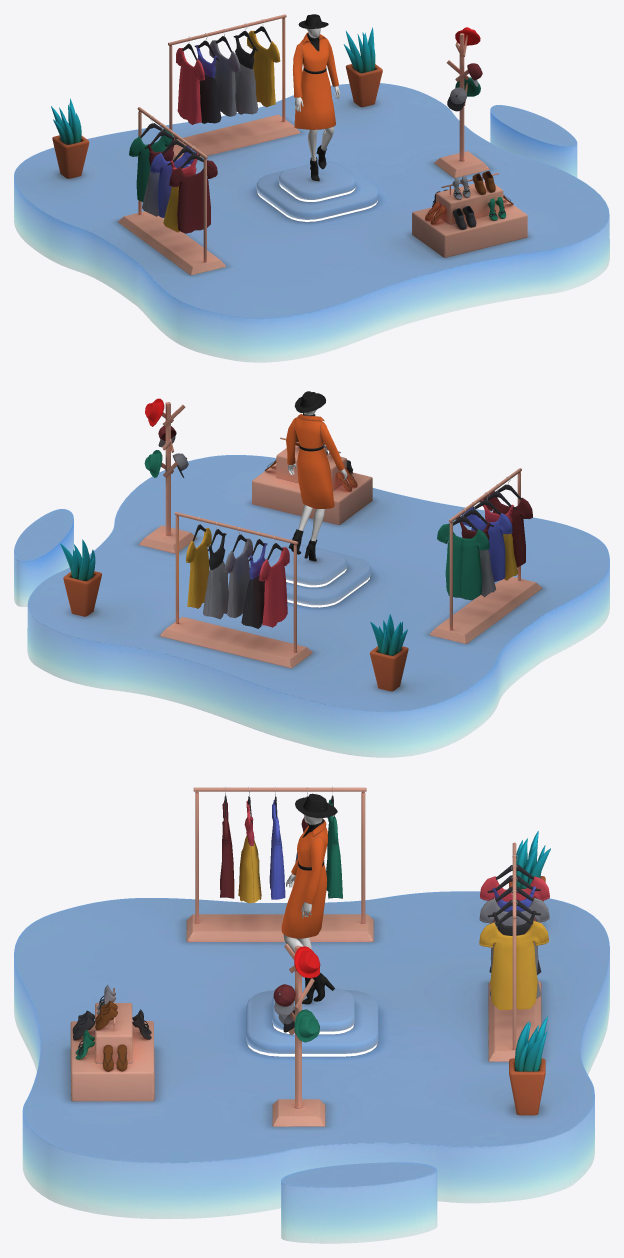
File: LeviCam10.glb
3 views of the same model, one above another, from view 1: azimuth 30°, elevation 25°; view 2: azimuth 150°, elevation 25°; view 3: azimuth 270°, elevation 25° (orthographic). The views are drawn at different scales.
Visible parts, largest first — view 1: LeviCamBase, LeviCamSet, LeviCamManneDrs, LeviCamManneBdy, LeviCamBsGlw; view 2: LeviCamBase, LeviCamSet, LeviCamManneDrs, LeviCamManneBdy; view 3: LeviCamBase, LeviCamSet, LeviCamManneDrs, LeviCamManneBdy.
Part boxes in pixels (box(x1,y1,x2,y2)): LeviCamBase: box(14, 83, 609, 362); LeviCamSet: box(51, 14, 527, 275); LeviCamManneDrs: box(293, 14, 338, 181); LeviCamManneBdy: box(295, 28, 339, 161); LeviCamBsGlw: box(257, 184, 377, 221); LeviCamBase: box(14, 455, 609, 757); LeviCamSet: box(60, 398, 542, 691); LeviCamManneDrs: box(286, 391, 344, 561); LeviCamManneBdy: box(287, 410, 347, 541); LeviCamBase: box(14, 891, 609, 1243); LeviCamSet: box(70, 786, 550, 1126); LeviCamManneDrs: box(281, 793, 337, 1004); LeviCamManneBdy: box(283, 814, 322, 953).
Size of the model in its own units: 7.89 by 3.58 by 6.72.
7 materials, 4 textured.
